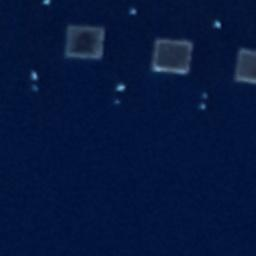square_cover: (146, 33, 196, 75), (60, 20, 109, 61), (229, 45, 256, 85)
